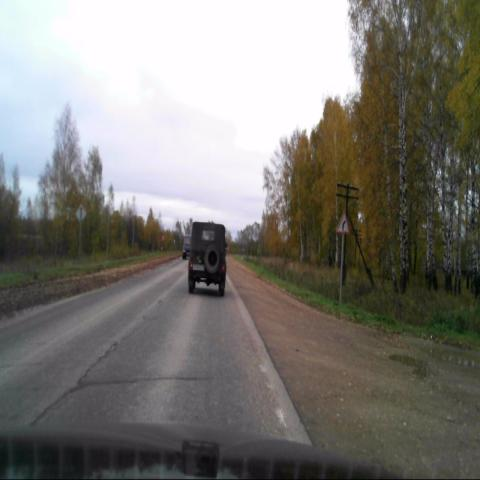1_11: (336, 211, 349, 234)
